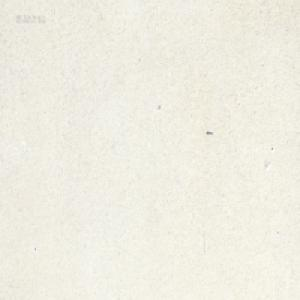Nail: (206, 129, 212, 135)
